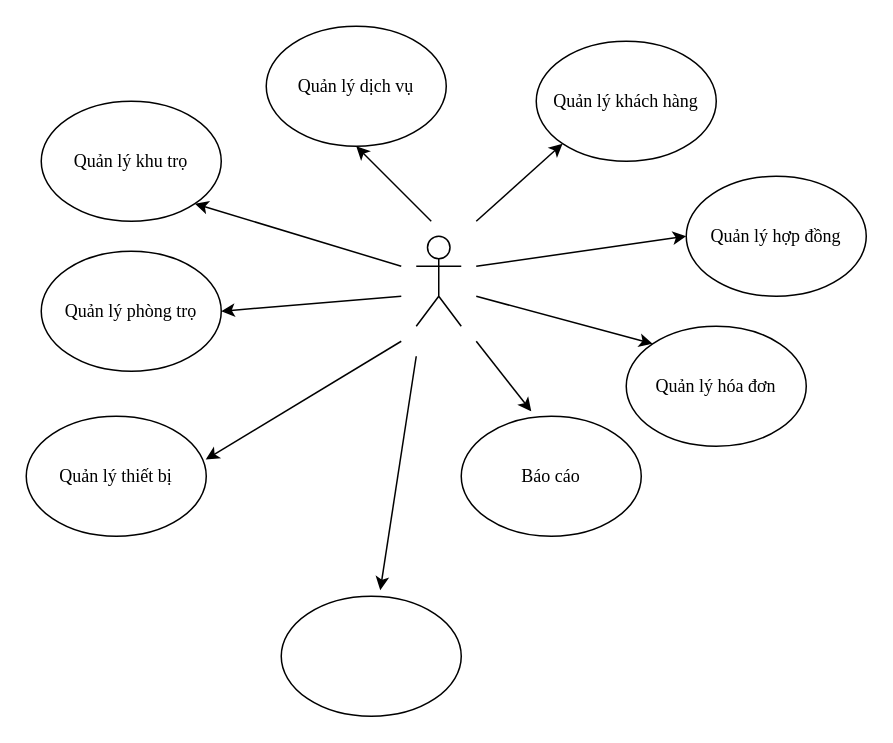
This 893x743 diagram has some shape labels left out. The box of each missing label's shape, as (x1, y1, x2, y2) in pixels:
Chủ trọ: (415, 235, 461, 326)
Đăng nhập: (280, 595, 461, 716)
